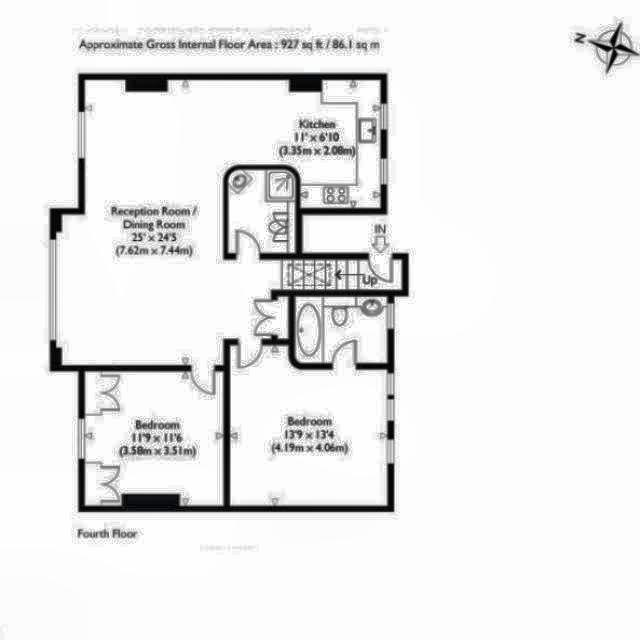room: (55, 78, 381, 365), (229, 344, 388, 505), (85, 371, 223, 506), (295, 296, 388, 364), (227, 170, 296, 253), (283, 259, 402, 289)
